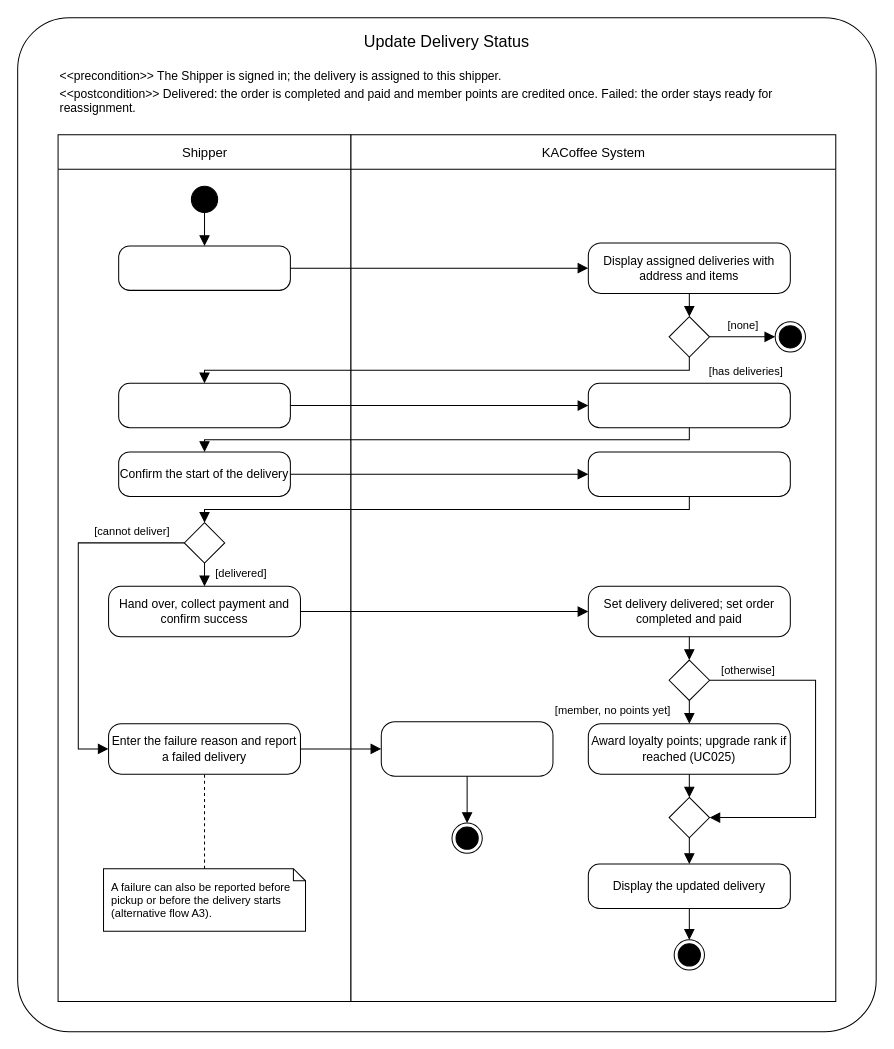
Some shapes in this 894 by 1049 pixel diagram are drawn without their labels. The centre of each missing label's shape, as x and y in pixels:
"Collect the order and confirm pickup" belongs at point 204,405.
"Open the deliveries list" belongs at point 204,267.
"Set delivering; record time and history" belongs at point 688,473.
"Set delivery failed; keep order ready; notify member" belongs at point 466,748.
"Set picked up; record time and history" belongs at point 688,405.
